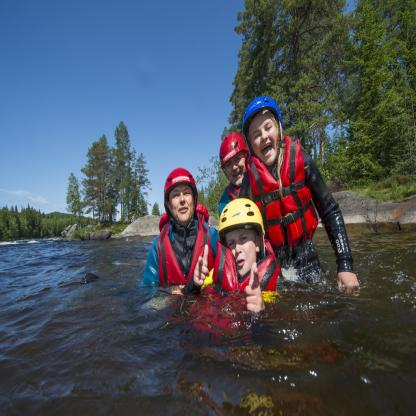Helmet: (218, 194, 266, 258), (242, 96, 285, 156), (162, 166, 200, 230), (220, 135, 253, 184)
